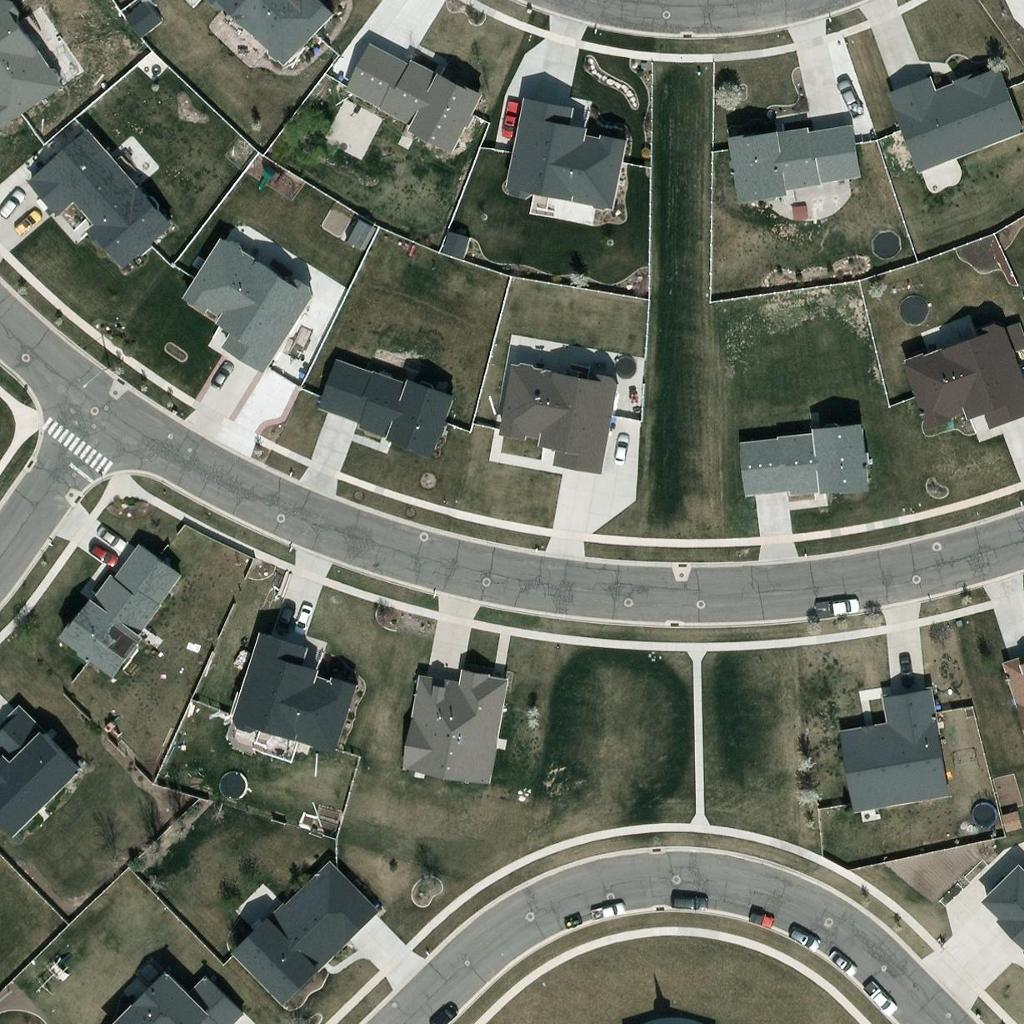car: (831, 78, 865, 112), (491, 105, 525, 139), (8, 206, 42, 240), (202, 359, 236, 393), (604, 432, 638, 466), (92, 521, 126, 555), (83, 536, 117, 570), (824, 590, 858, 624), (266, 600, 300, 634), (284, 602, 318, 636), (888, 651, 922, 685), (672, 884, 706, 918), (590, 894, 624, 928), (742, 902, 776, 936), (785, 919, 819, 953), (824, 946, 858, 980), (862, 982, 896, 1016), (0, 188, 26, 222), (424, 1001, 458, 1024)
